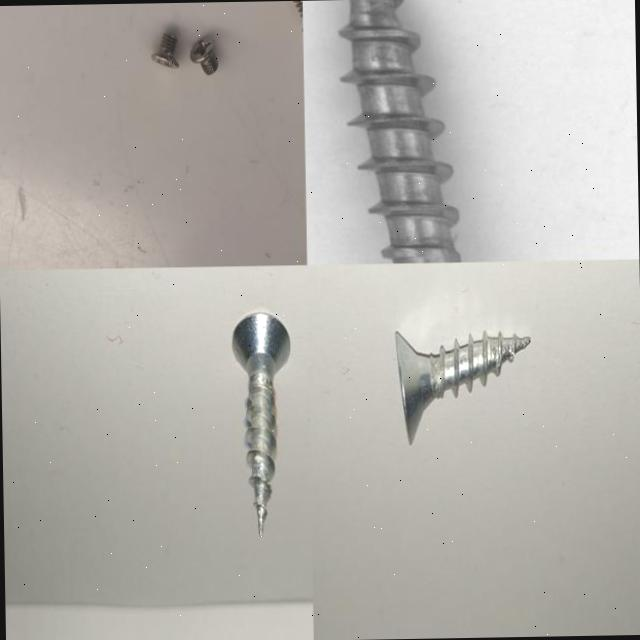Screw: (327, 0, 576, 264), (395, 332, 531, 445), (232, 313, 290, 538), (147, 26, 184, 75), (188, 33, 225, 80), (282, 0, 302, 38)
